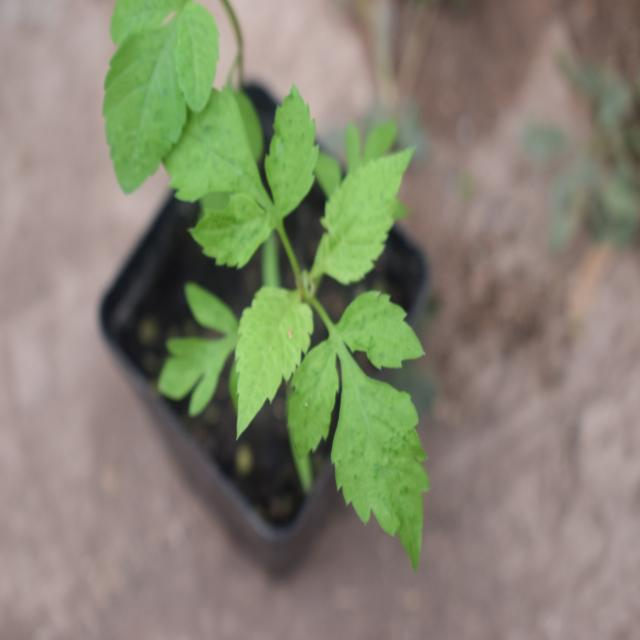Bidens pilosa: (179, 81, 456, 581)
